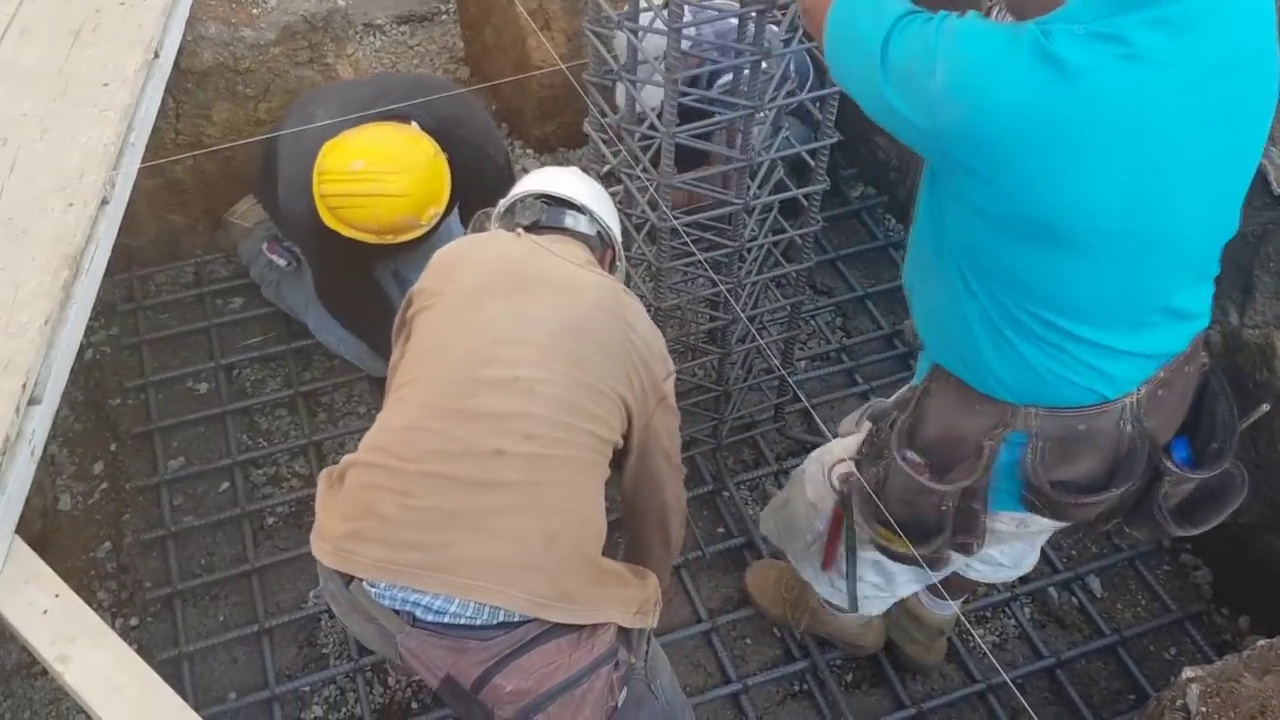helmet: (311, 122, 451, 243), (495, 164, 624, 262)
helmet-on: (485, 157, 631, 287), (311, 114, 451, 244)
person: (742, 0, 1280, 674), (309, 162, 687, 720), (254, 70, 501, 338)
